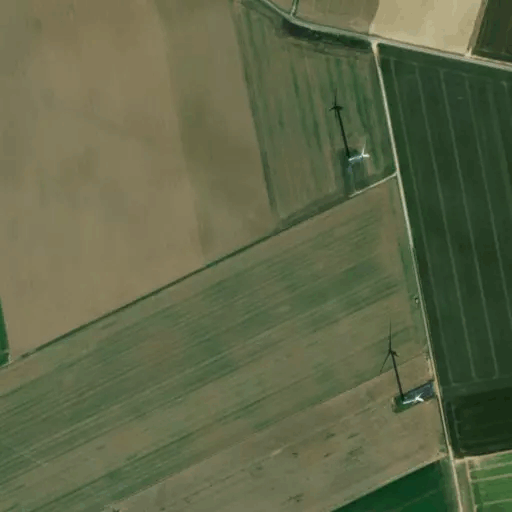wt: (376, 321, 433, 412), (322, 87, 372, 172)
